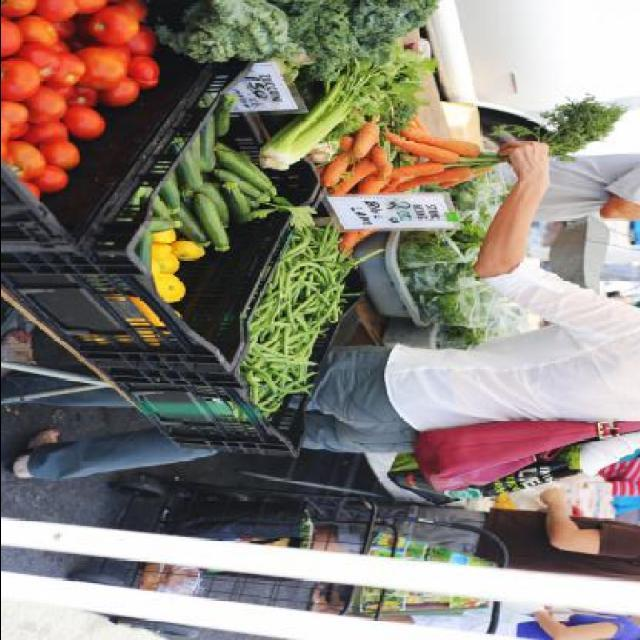Carrot: (306, 120, 496, 192)
